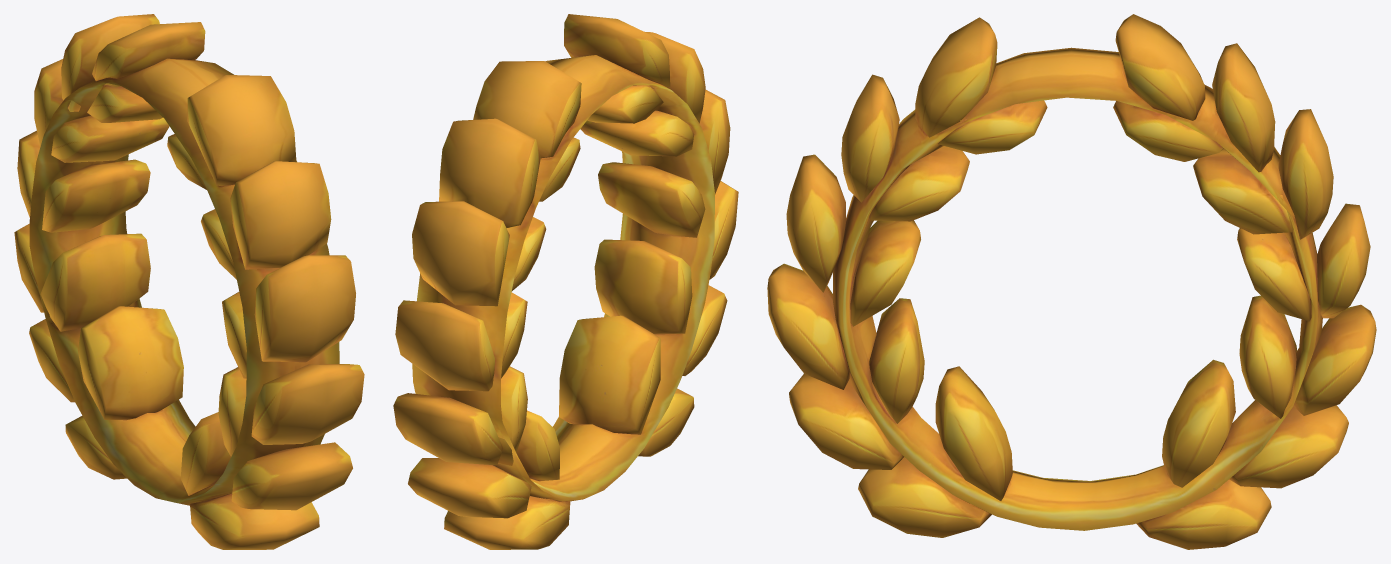
The model's file is laurel-r2.glb.
3 views of the same model, side by side, from view 1: azimuth 30°, elevation 25°; view 2: azimuth 150°, elevation 25°; view 3: azimuth 270°, elevation 25° (orthographic). The views are drawn at different scales.
Visible parts, largest first — view 1: tripo_node_d87887b2-20f1-4ab9-81ef-495f831bb4a4; view 2: tripo_node_d87887b2-20f1-4ab9-81ef-495f831bb4a4; view 3: tripo_node_d87887b2-20f1-4ab9-81ef-495f831bb4a4.
Part boxes in pixels (x1,y1,x2,y2): tripo_node_d87887b2-20f1-4ab9-81ef-495f831bb4a4: (14,14,364,549); tripo_node_d87887b2-20f1-4ab9-81ef-495f831bb4a4: (393,14,738,549); tripo_node_d87887b2-20f1-4ab9-81ef-495f831bb4a4: (767,14,1376,549).
Size of the model in its own units: 0.1934 by 0.9238 by 0.998.
Materials: 1 (1 with a texture image).
